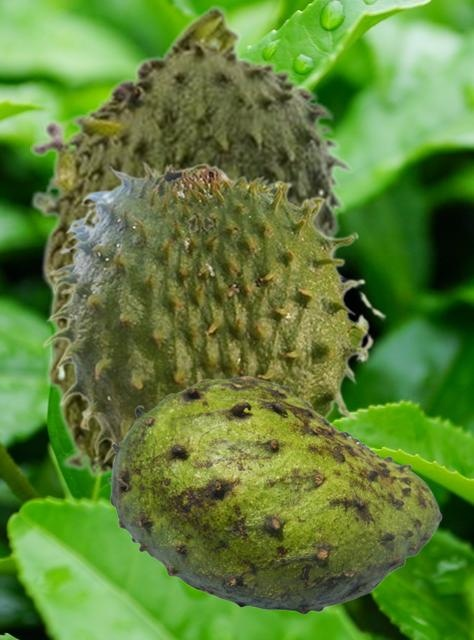guyabano: (30, 2, 353, 482), (42, 161, 386, 464), (107, 375, 441, 614)
